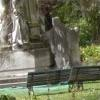Statue: (37, 10, 93, 69)
